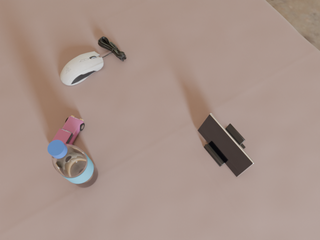bottle: (48, 140, 98, 188)
mouse: (60, 52, 103, 85)
phone: (198, 113, 254, 177)
toy_car: (53, 116, 84, 144)
